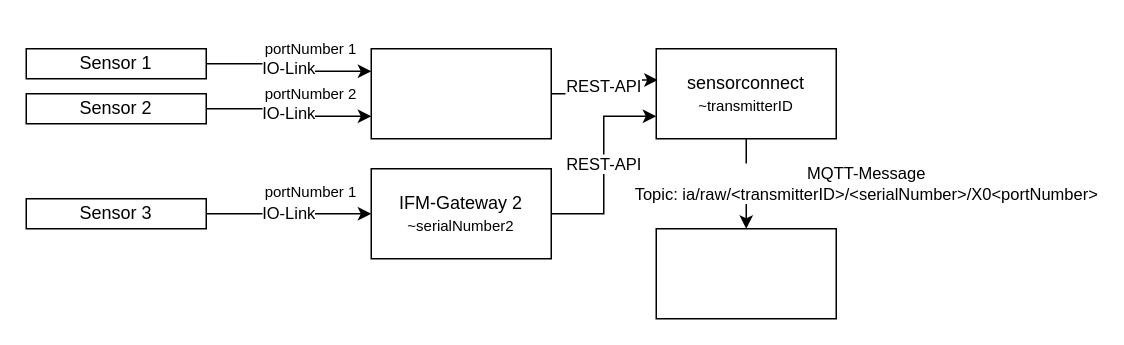
Some shapes in this 1124 by 345 pixel diagram are drawn without their labels. Each missing label, with the centre of its shape:
IFM-Gateway 1 ~serialNumber1: the point at 460,93
MQTT-Broker: the point at 745,273
